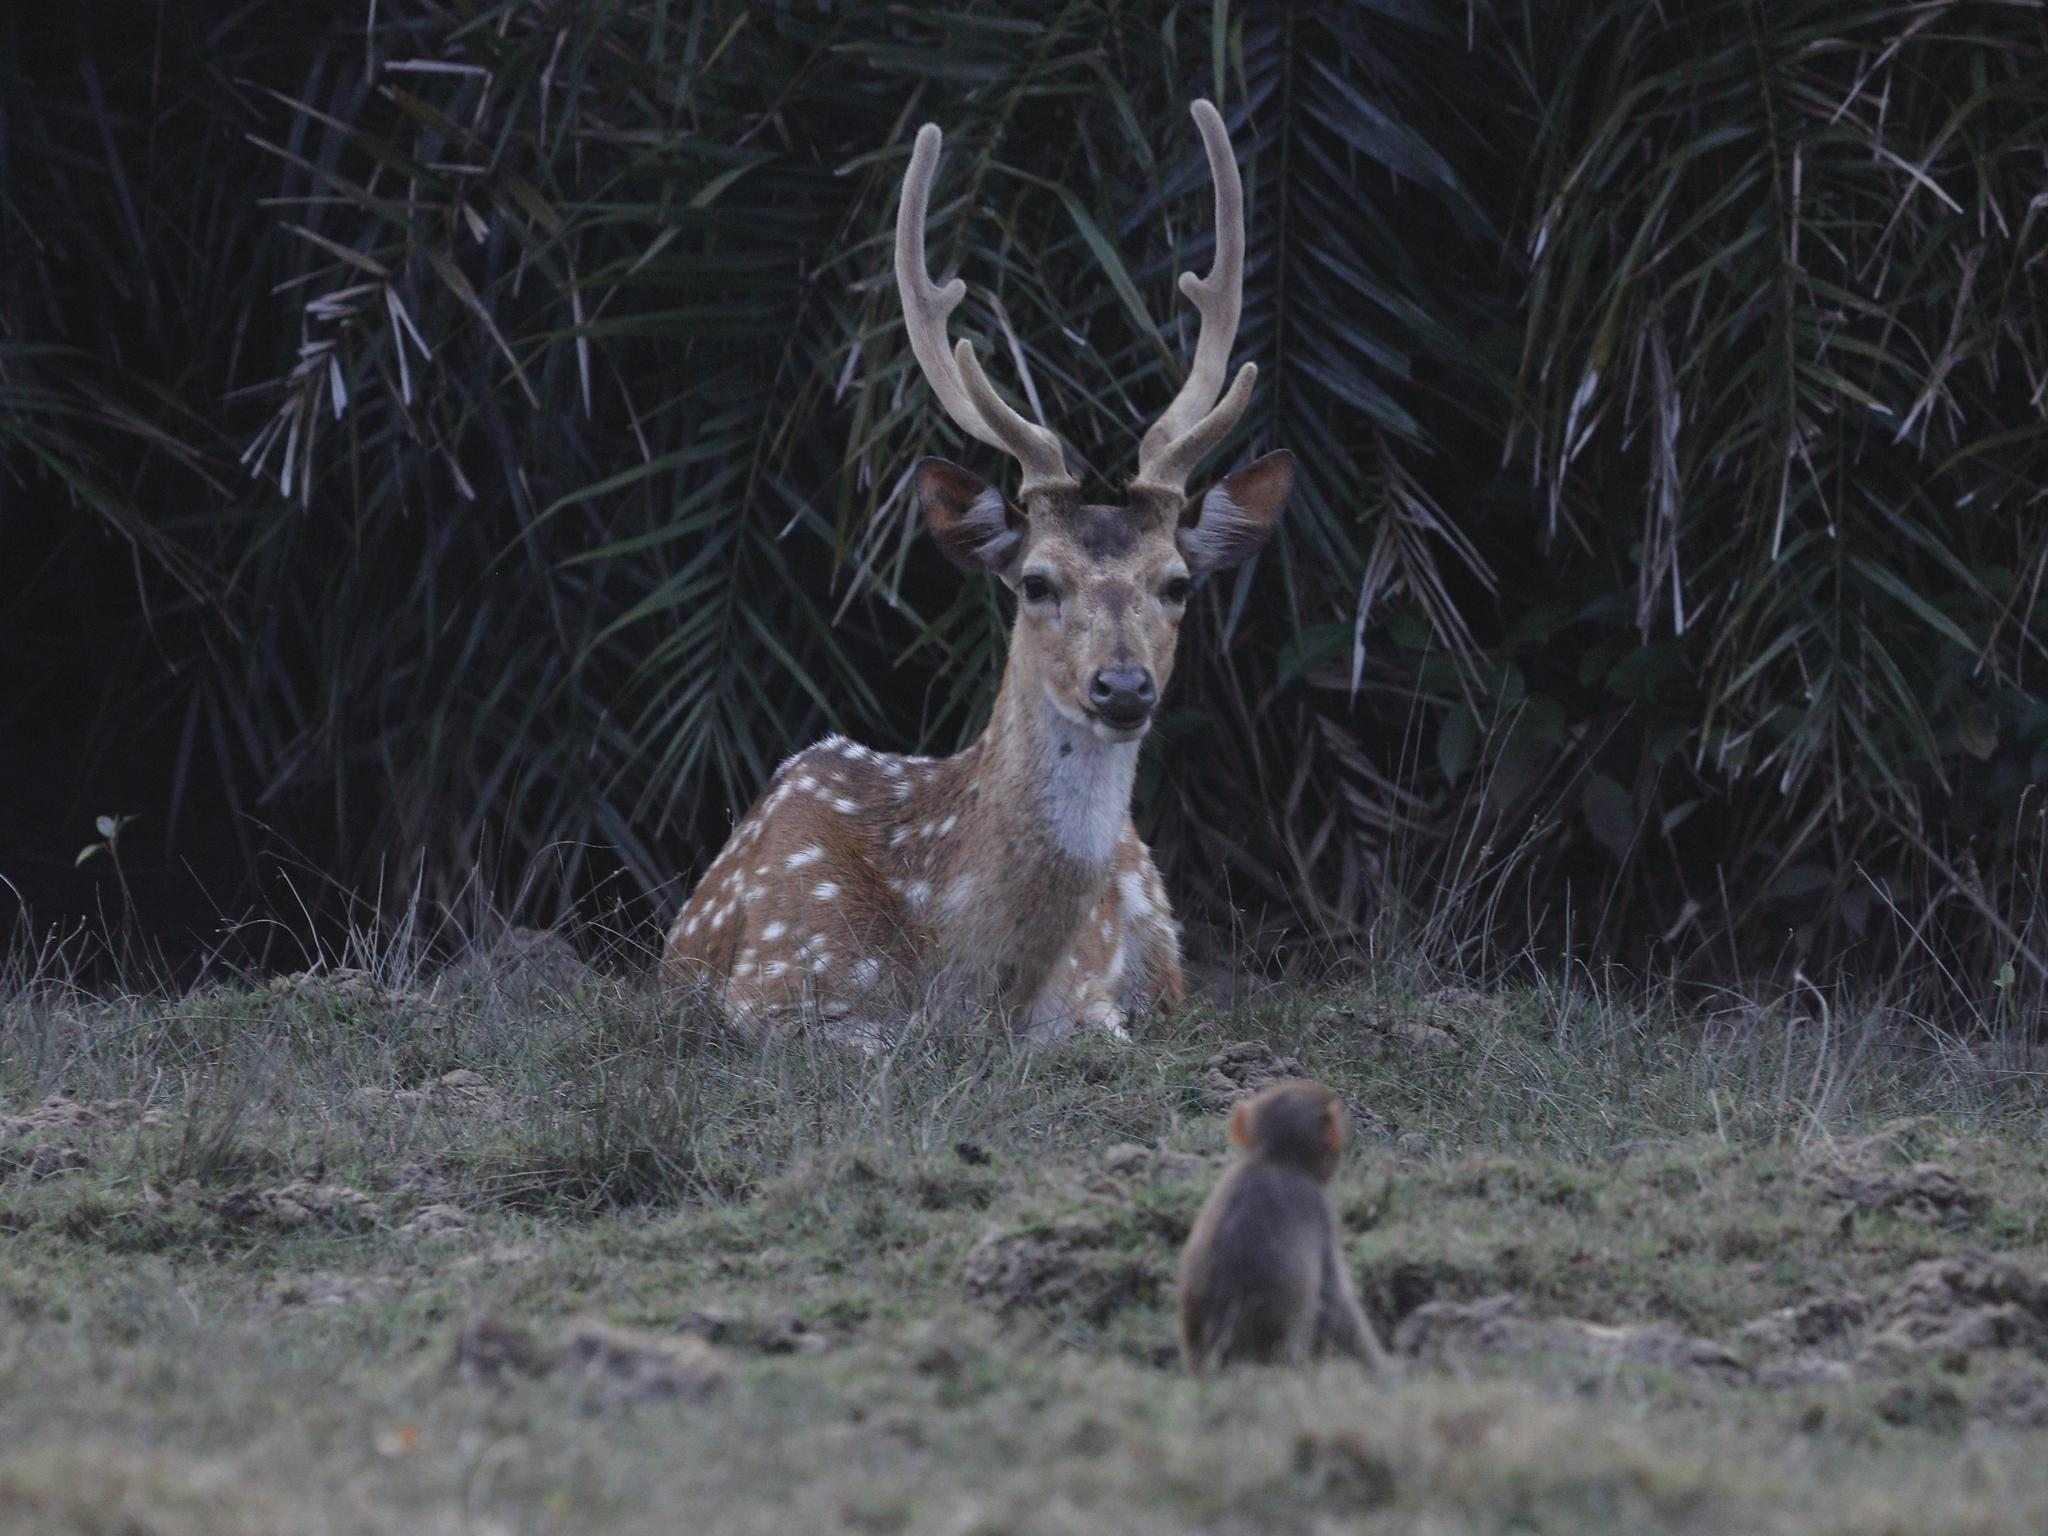Deer: (664, 100, 1293, 1034)
